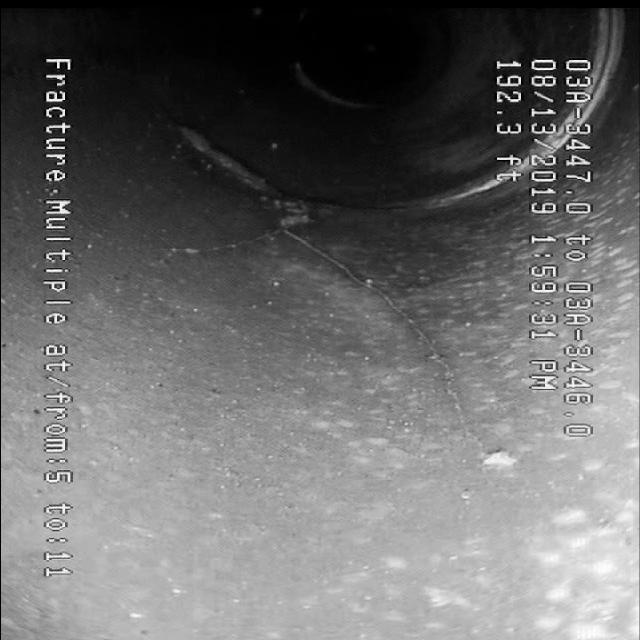Crack: (210, 250, 517, 502)
